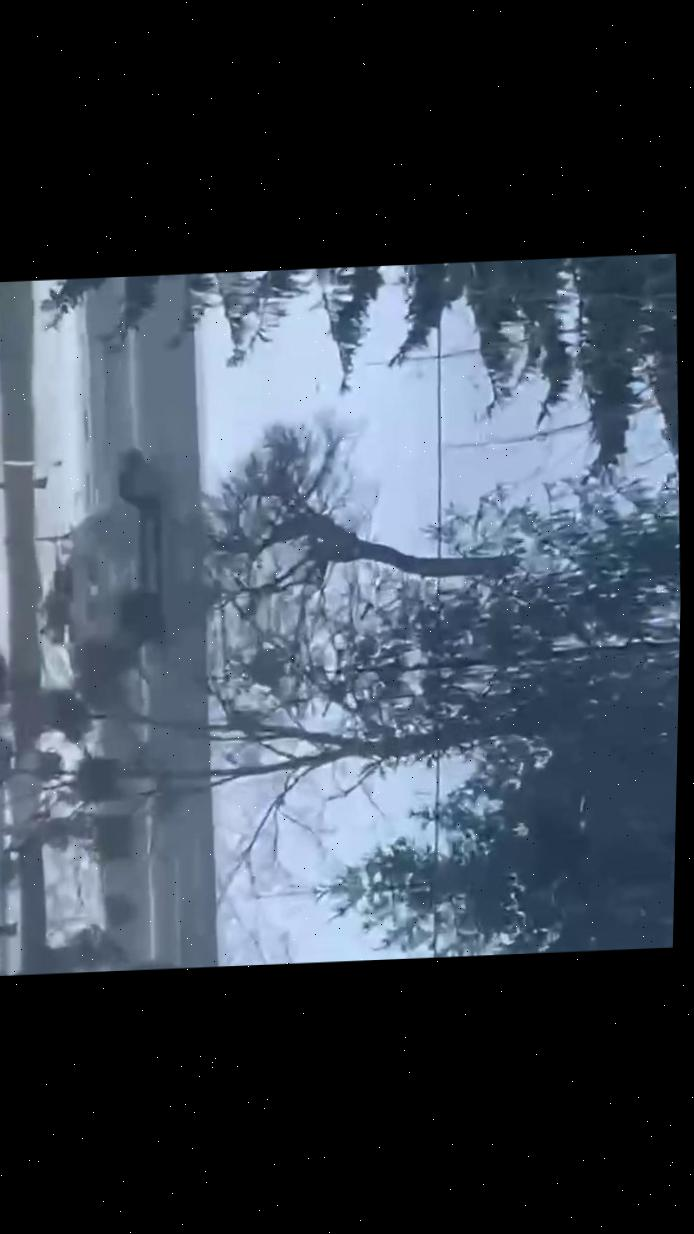armored_car: (37, 443, 175, 672)
